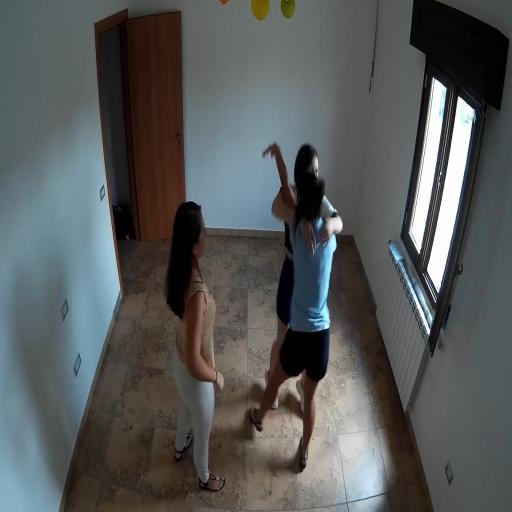nao-violencia: (241, 112, 349, 483)
